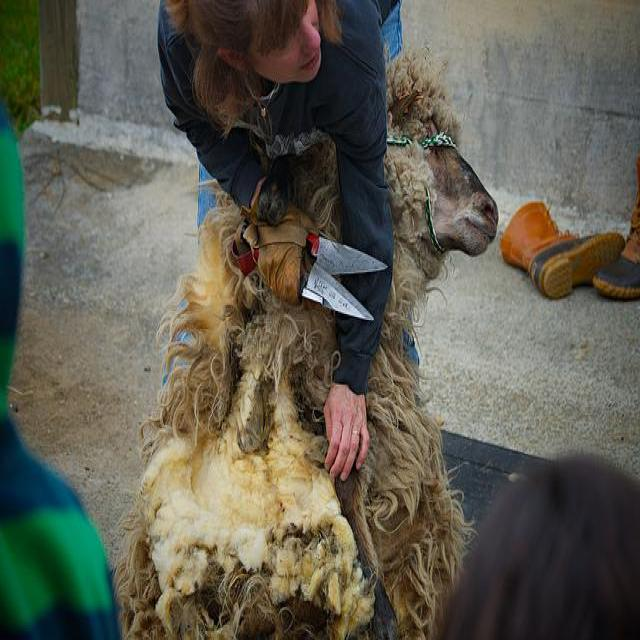Sheep: (117, 59, 493, 634)
